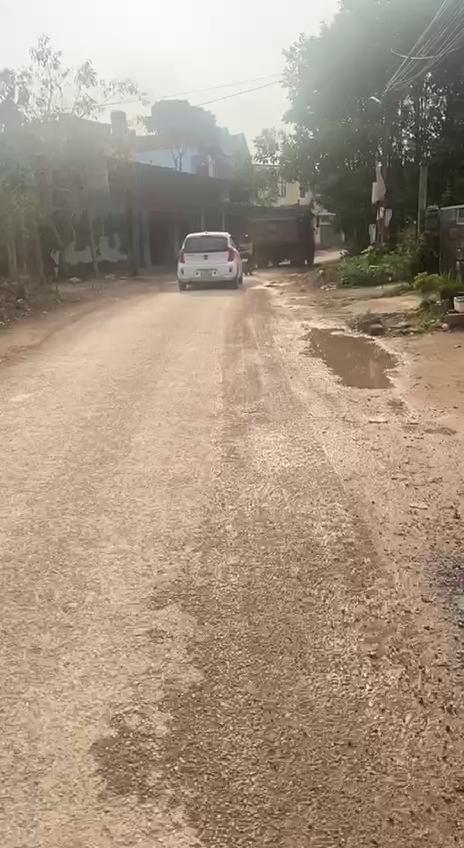pothole: (295, 318, 407, 394)
